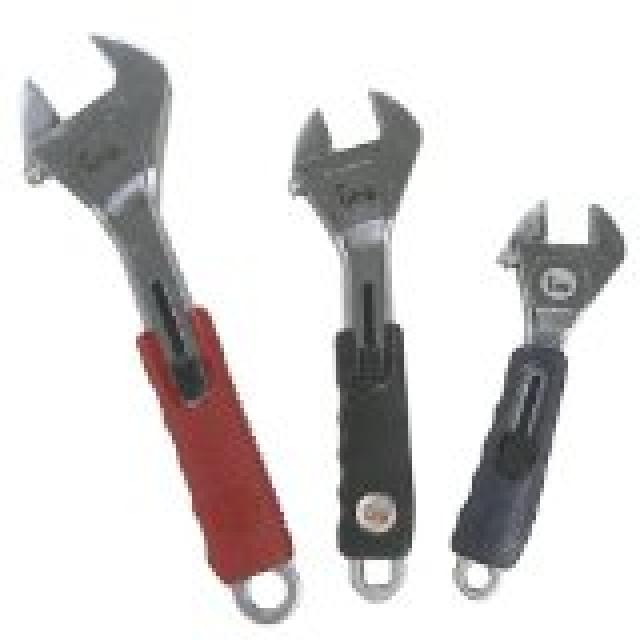wrench: (0, 28, 192, 444), (276, 76, 439, 404), (484, 180, 640, 484)
